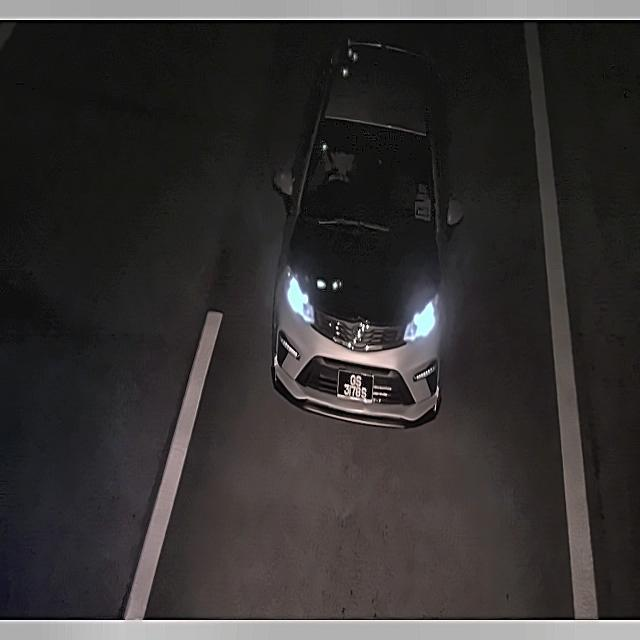car: (334, 368, 380, 409)
